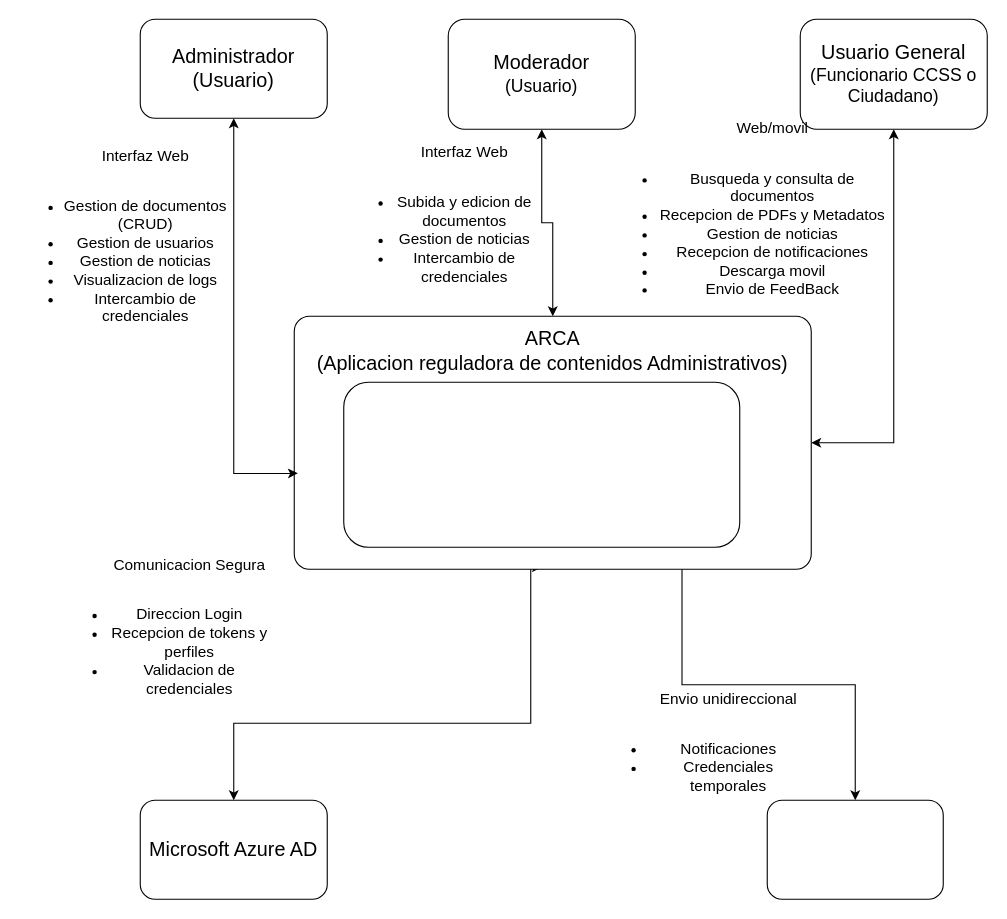
Image size: 1007x919. Some labels were removed from this diagram. Each missing label, with the centre of its shape:
"Nucleo del sistema: Gestion documental Control de accesos Procesos automatizados" belongs at (541,464).
"Servicio de Correo" belongs at (854,849).
